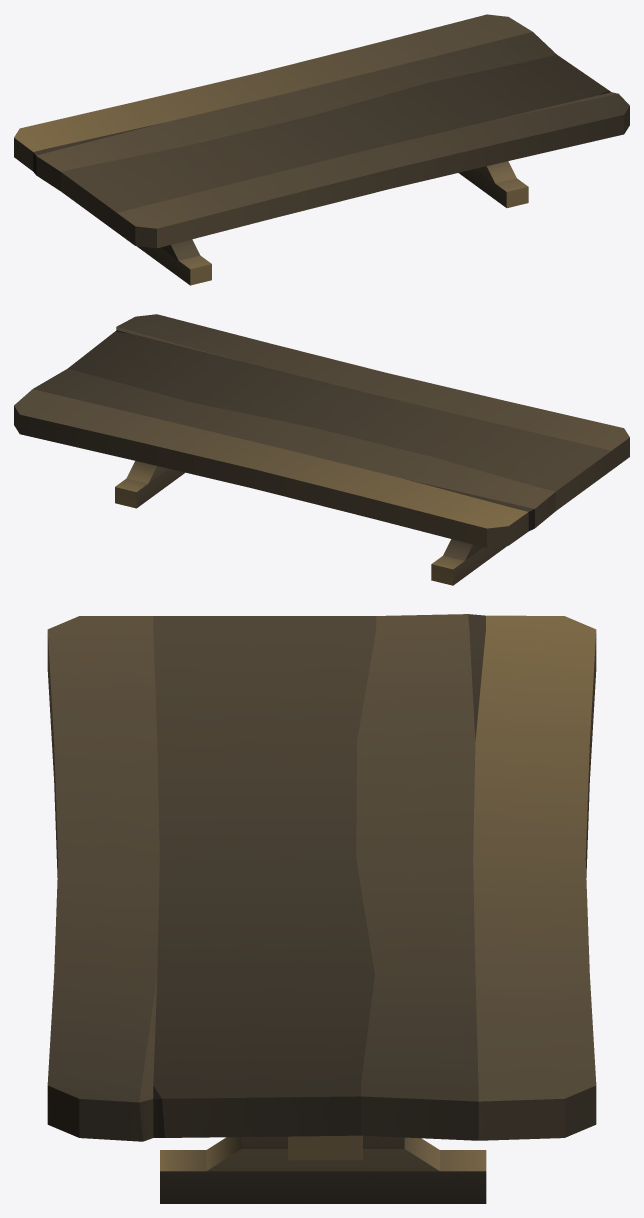
Rendered from table_large.fbx.
The picture shows the model from 3 angles, top to bottom: view 1: azimuth 30°, elevation 25°; view 2: azimuth 150°, elevation 25°; view 3: azimuth 270°, elevation 25°; orthographic projection. The views are drawn at different scales.
Parts seen in each view (by area): view 1: table_large; view 2: table_large; view 3: table_large.
Part boxes in pixels (box(x1,y1,x2,y2)): table_large: box(14, 14, 629, 285); table_large: box(14, 314, 629, 585); table_large: box(47, 614, 596, 1203).
Size of the model in its own units: 354 by 62.39 by 168.
